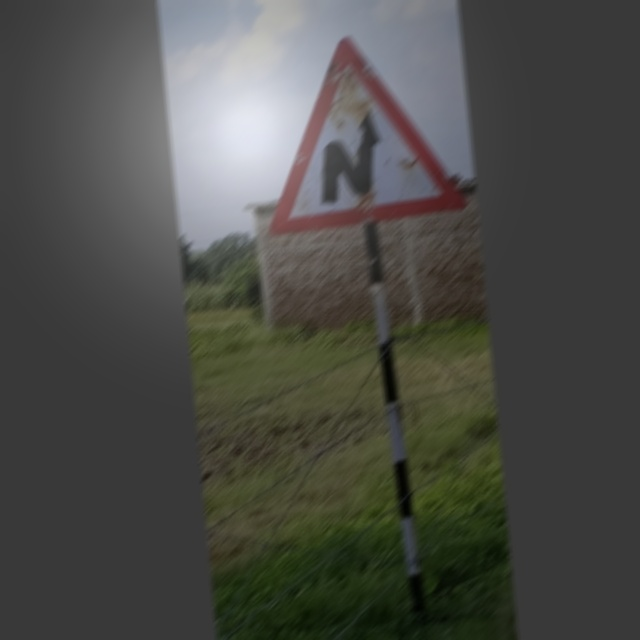Right_Reverse_Bend: (255, 27, 468, 231)
